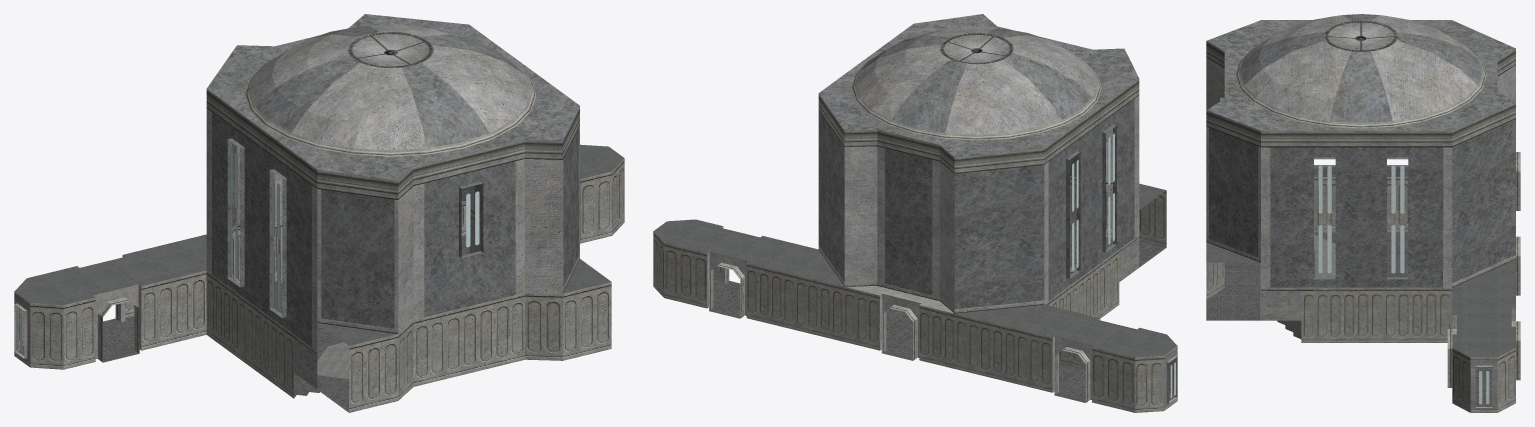
The model's file is mun_nboo_guild_combat_s01_r4_mainroom_mesh_mainroom.fbx.
3 renders of one model, left to right at view 1: azimuth 30°, elevation 25°; view 2: azimuth 150°, elevation 25°; view 3: azimuth 270°, elevation 25°, orthographic. The views are drawn at different scales.
Parts seen in each view (by area): view 1: mesh_node; view 2: mesh_node; view 3: mesh_node.
Part boxes in pixels (bbox=[...]): mesh_node: bbox=[14, 14, 624, 412]; mesh_node: bbox=[653, 14, 1177, 412]; mesh_node: bbox=[1206, 14, 1520, 412].
Bounding box in the file's own units: 32.83 × 15.24 × 17.25.
